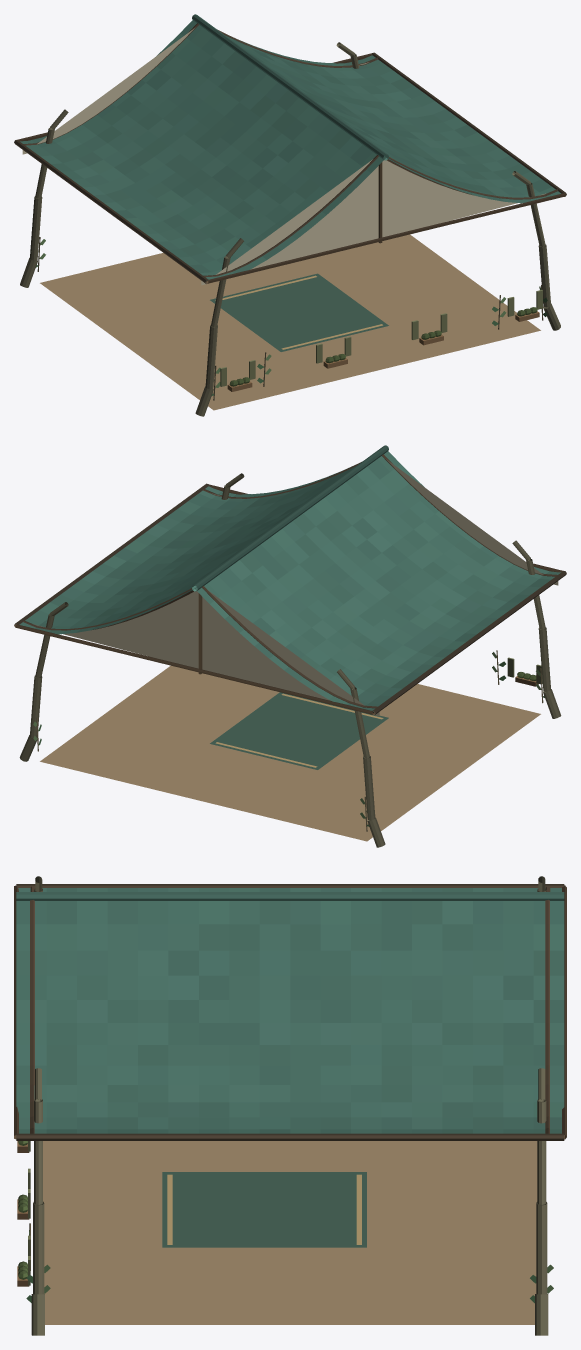
3 views of the same model, one above another, from view 1: azimuth 30°, elevation 25°; view 2: azimuth 150°, elevation 25°; view 3: azimuth 270°, elevation 25° (orthographic). The views are drawn at different scales.
Visible parts, largest first — view 1: f54e1bdcfab7259a3e4f971780e25948c9a63b17437a68c6990e61ef9d22; view 2: f54e1bdcfab7259a3e4f971780e25948c9a63b17437a68c6990e61ef9d22; view 3: f54e1bdcfab7259a3e4f971780e25948c9a63b17437a68c6990e61ef9d22.
Part boxes in pixels (x1,y1,x2,y2): f54e1bdcfab7259a3e4f971780e25948c9a63b17437a68c6990e61ef9d22: (14, 14, 566, 416); f54e1bdcfab7259a3e4f971780e25948c9a63b17437a68c6990e61ef9d22: (14, 445, 566, 847); f54e1bdcfab7259a3e4f971780e25948c9a63b17437a68c6990e61ef9d22: (14, 876, 566, 1335).
Size of the model in its own units: 14.13 by 8.31 by 12.97.
Materials: 6 (1 with a texture image).
